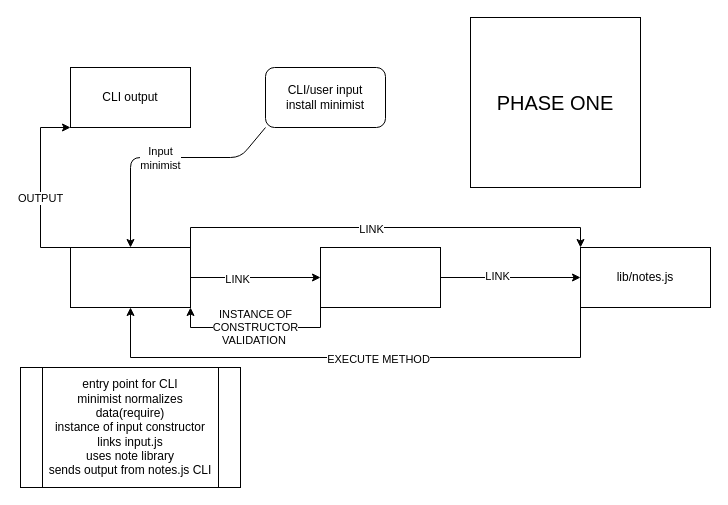
This 728x505 diagram has some shape labels left out. Here are the shapes that lost their labels. From the top down, the centre of each, then its label:
At point (130, 277): "index.js".
At point (380, 277): "lib/input.js".
